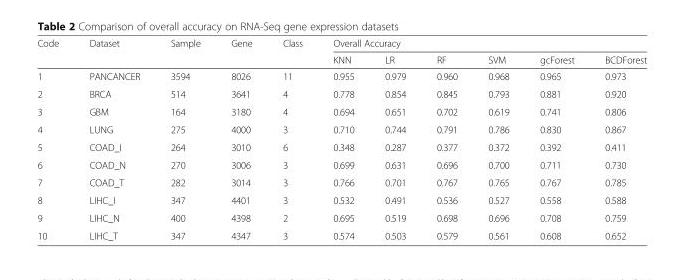table: (36, 37, 646, 240)
table column: (73, 37, 154, 240), (523, 37, 588, 240), (154, 37, 215, 240), (588, 37, 646, 240), (368, 37, 420, 240), (420, 37, 472, 240), (215, 37, 266, 240), (266, 37, 317, 240), (317, 37, 368, 240), (472, 37, 523, 240), (36, 37, 73, 240)
table column header: (36, 37, 646, 67)
table row: (36, 84, 646, 102), (36, 102, 646, 120), (36, 137, 646, 155), (36, 155, 646, 173), (36, 173, 646, 191), (36, 208, 646, 226), (36, 67, 646, 84), (36, 120, 646, 137), (36, 191, 646, 208), (36, 51, 646, 67), (36, 37, 646, 51), (36, 226, 646, 240)
table spanning cell: (317, 37, 646, 51), (73, 37, 154, 67), (154, 37, 215, 67), (215, 37, 266, 67), (266, 37, 317, 67), (36, 37, 73, 67)
